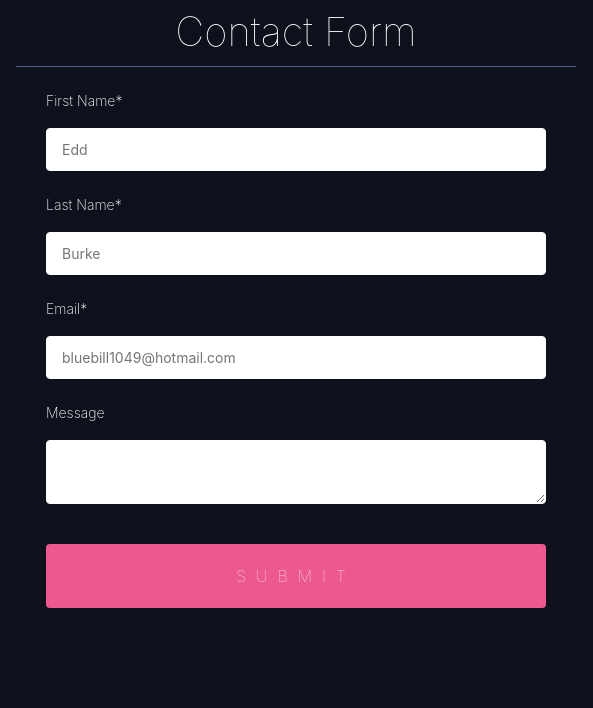
Scenario: 9 renders all fields text when all fields are submitted.
Type "Wiliam" into the field labelled "First Name*" at (296, 150), box [46,128,546,171]
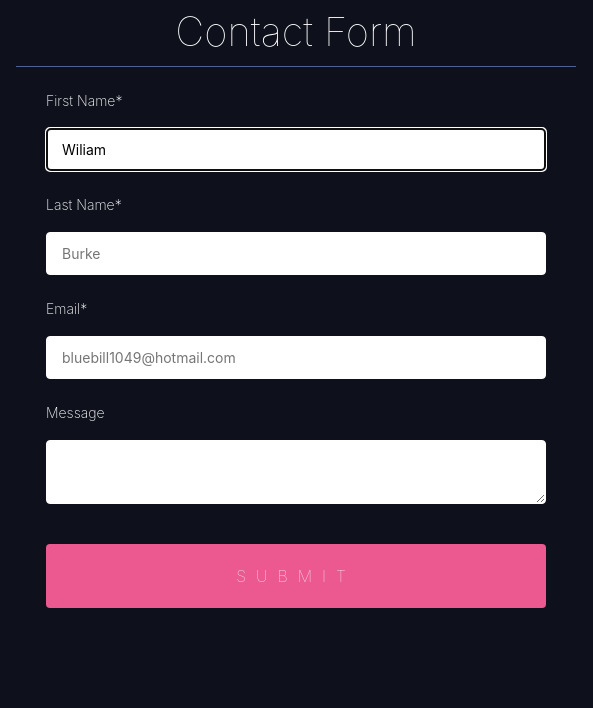
Type "Mansfield" into the field labelled "Last Name*" at (296, 254), box [46,232,546,275]
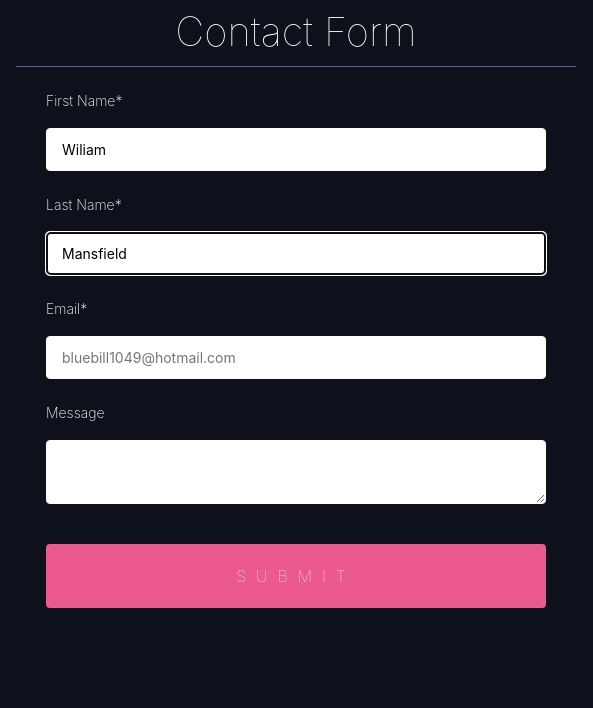
Type "RicksMyCodeGuy@gmail.com" into the field labelled "Email*" at (296, 358), box [46,336,546,379]
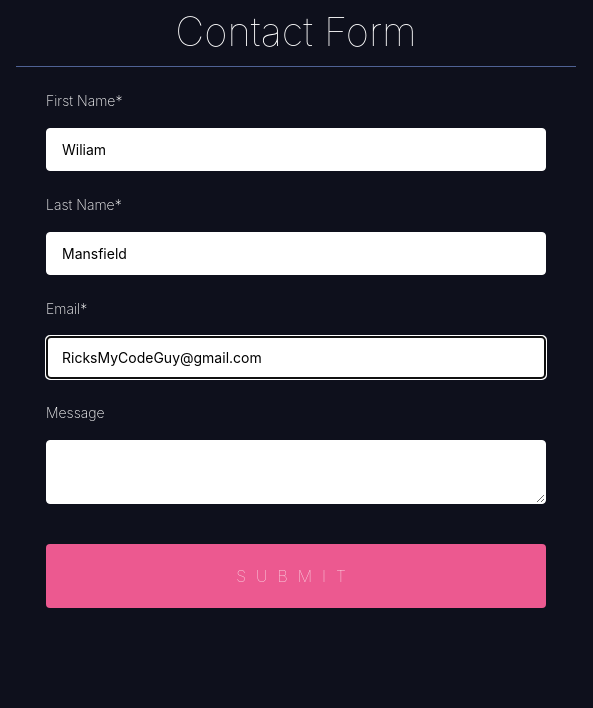
Click the button at (296, 576), box [46,544,546,608]
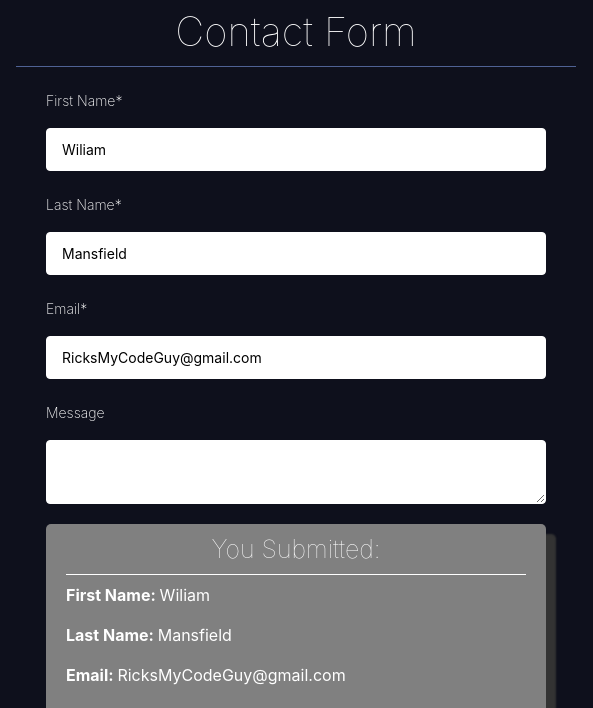
Result: the element with test id "firstnameDisplay" is shown at [66,585,210,605]
Result: the text "Last Name: Mansfield" is shown at [66,625,232,645]
